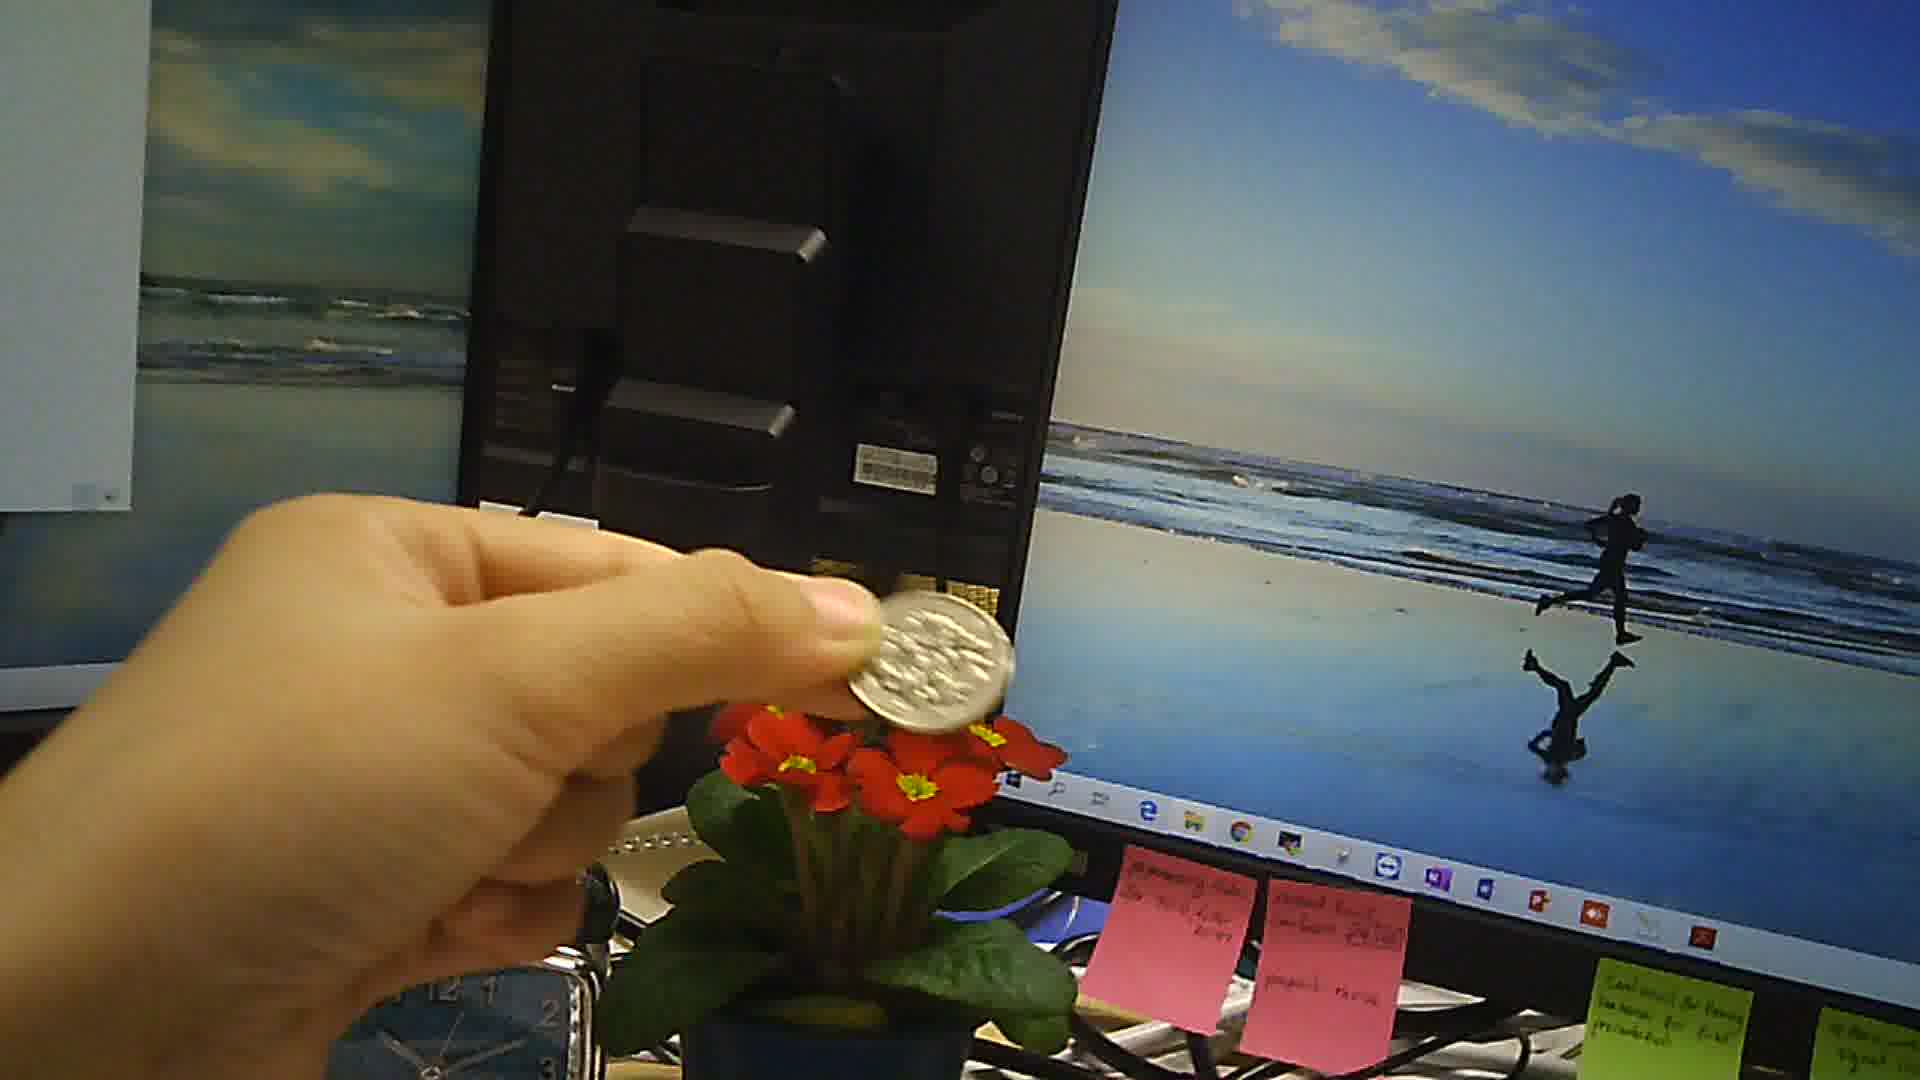100 Yen: (833, 582, 1014, 728)
